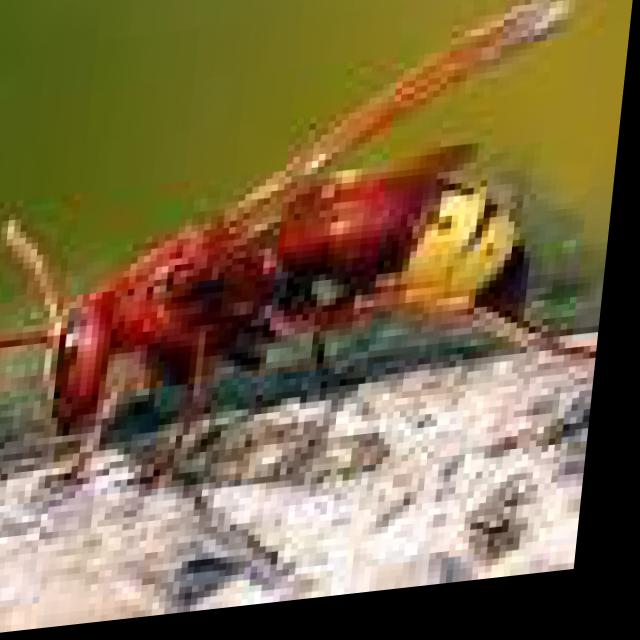Vespa Orientalis: (0, 0, 631, 518)
